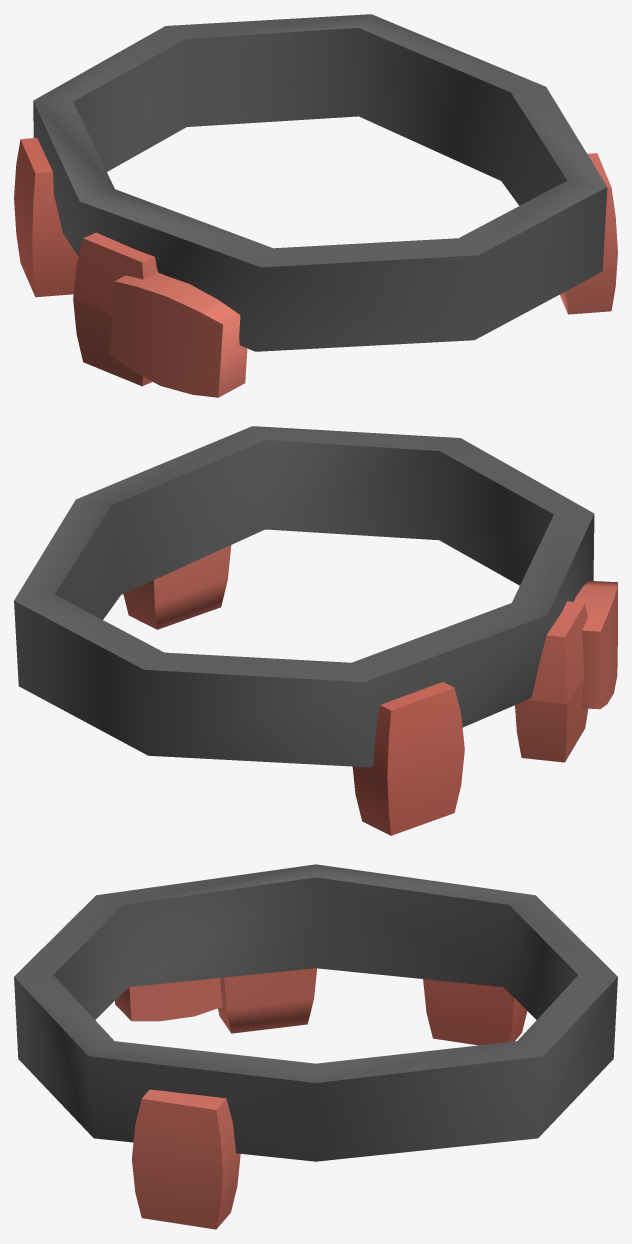
The model's file is Belt.fbx.
The picture shows the model from 3 angles, top to bottom: view 1: azimuth 30°, elevation 25°; view 2: azimuth 150°, elevation 25°; view 3: azimuth 270°, elevation 25°; orthographic projection. The views are drawn at different scales.
Parts seen in each view (by area): view 1: Belt; view 2: Belt; view 3: Belt.
Boxes of the visible parts, left/top/right/bottom form: Belt: left=14, top=14, right=617, bottom=397; Belt: left=14, top=426, right=617, bottom=835; Belt: left=14, top=864, right=617, bottom=1229.
Size of the model in its own units: 0.2559 by 0.2857 by 0.0781.
